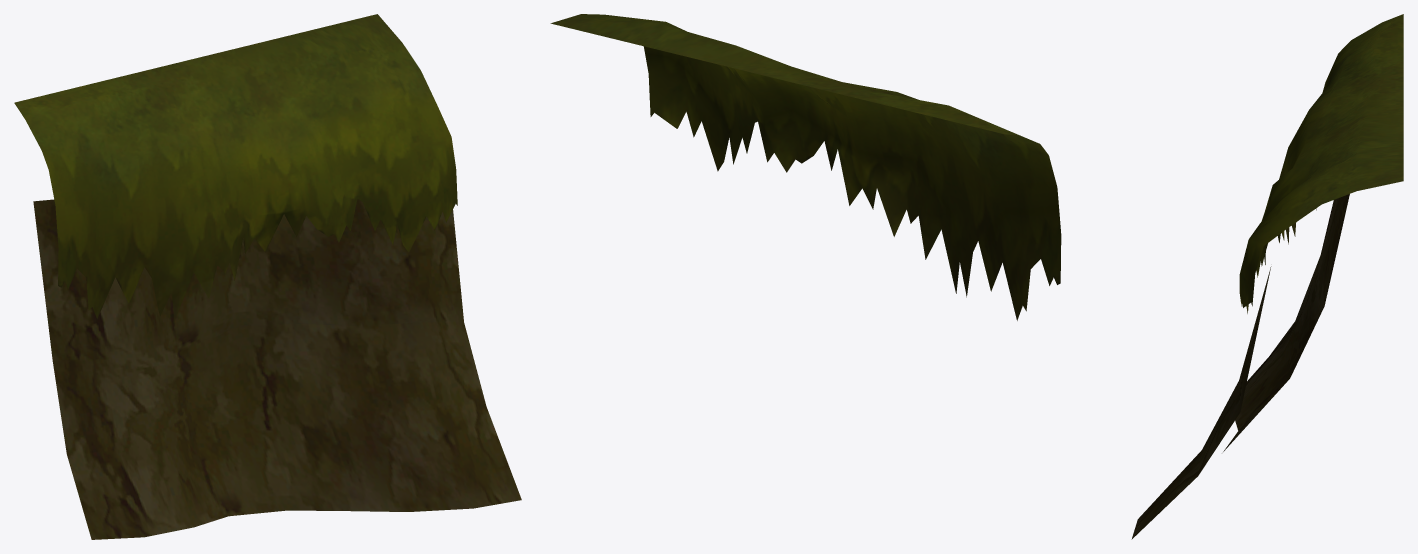
The model's file is lumina_trim_base4_p2_left.FBX.
3 views of the same model, side by side, from view 1: azimuth 30°, elevation 25°; view 2: azimuth 150°, elevation 25°; view 3: azimuth 270°, elevation 25° (orthographic). The views are drawn at different scales.
Parts seen in each view (by area): view 1: lumina_trim_base4_p2_left; view 2: lumina_trim_base4_p2_left; view 3: lumina_trim_base4_p2_left.
Part boxes in pixels (bbox=[...]): lumina_trim_base4_p2_left: bbox=[14, 14, 521, 539]; lumina_trim_base4_p2_left: bbox=[550, 14, 1061, 320]; lumina_trim_base4_p2_left: bbox=[1131, 14, 1403, 539].
Bounding box in the file's own units: 4 × 4 × 2.75.
